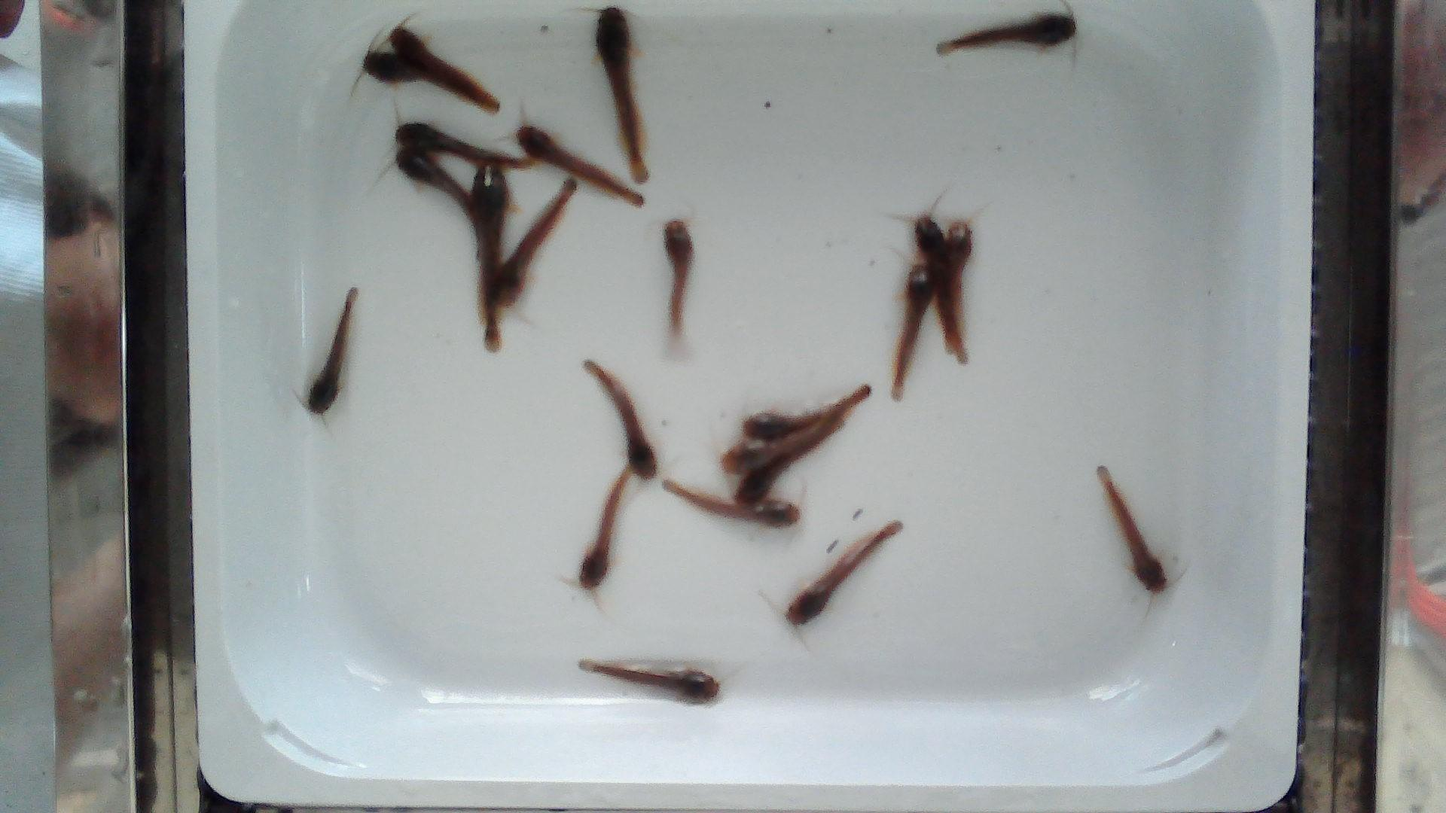lele: (493, 180, 577, 322), (786, 522, 901, 625), (736, 411, 849, 505), (517, 125, 642, 204), (387, 26, 500, 109), (596, 8, 648, 184), (1097, 466, 1167, 593), (395, 152, 479, 253), (584, 361, 655, 478), (722, 407, 849, 472), (915, 216, 967, 363), (470, 167, 507, 353), (391, 121, 537, 165), (663, 480, 799, 527), (307, 288, 358, 413), (744, 386, 864, 439), (580, 467, 631, 589), (580, 659, 719, 703), (894, 265, 935, 399), (937, 14, 1075, 53), (362, 52, 459, 96), (664, 220, 694, 349), (943, 221, 972, 314)
